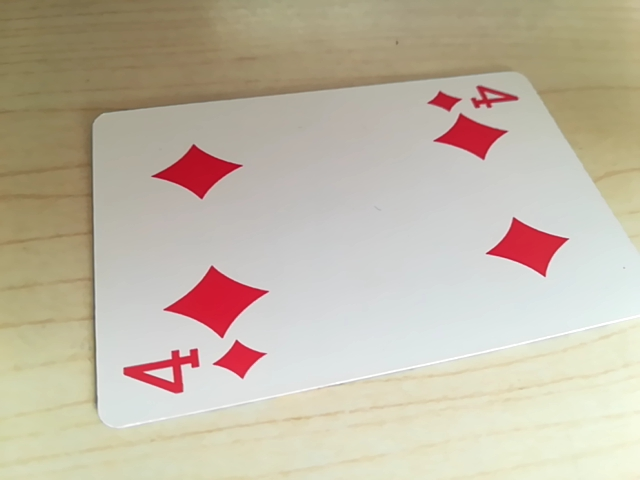fk 4: (121, 335, 274, 408), (428, 82, 522, 117)
